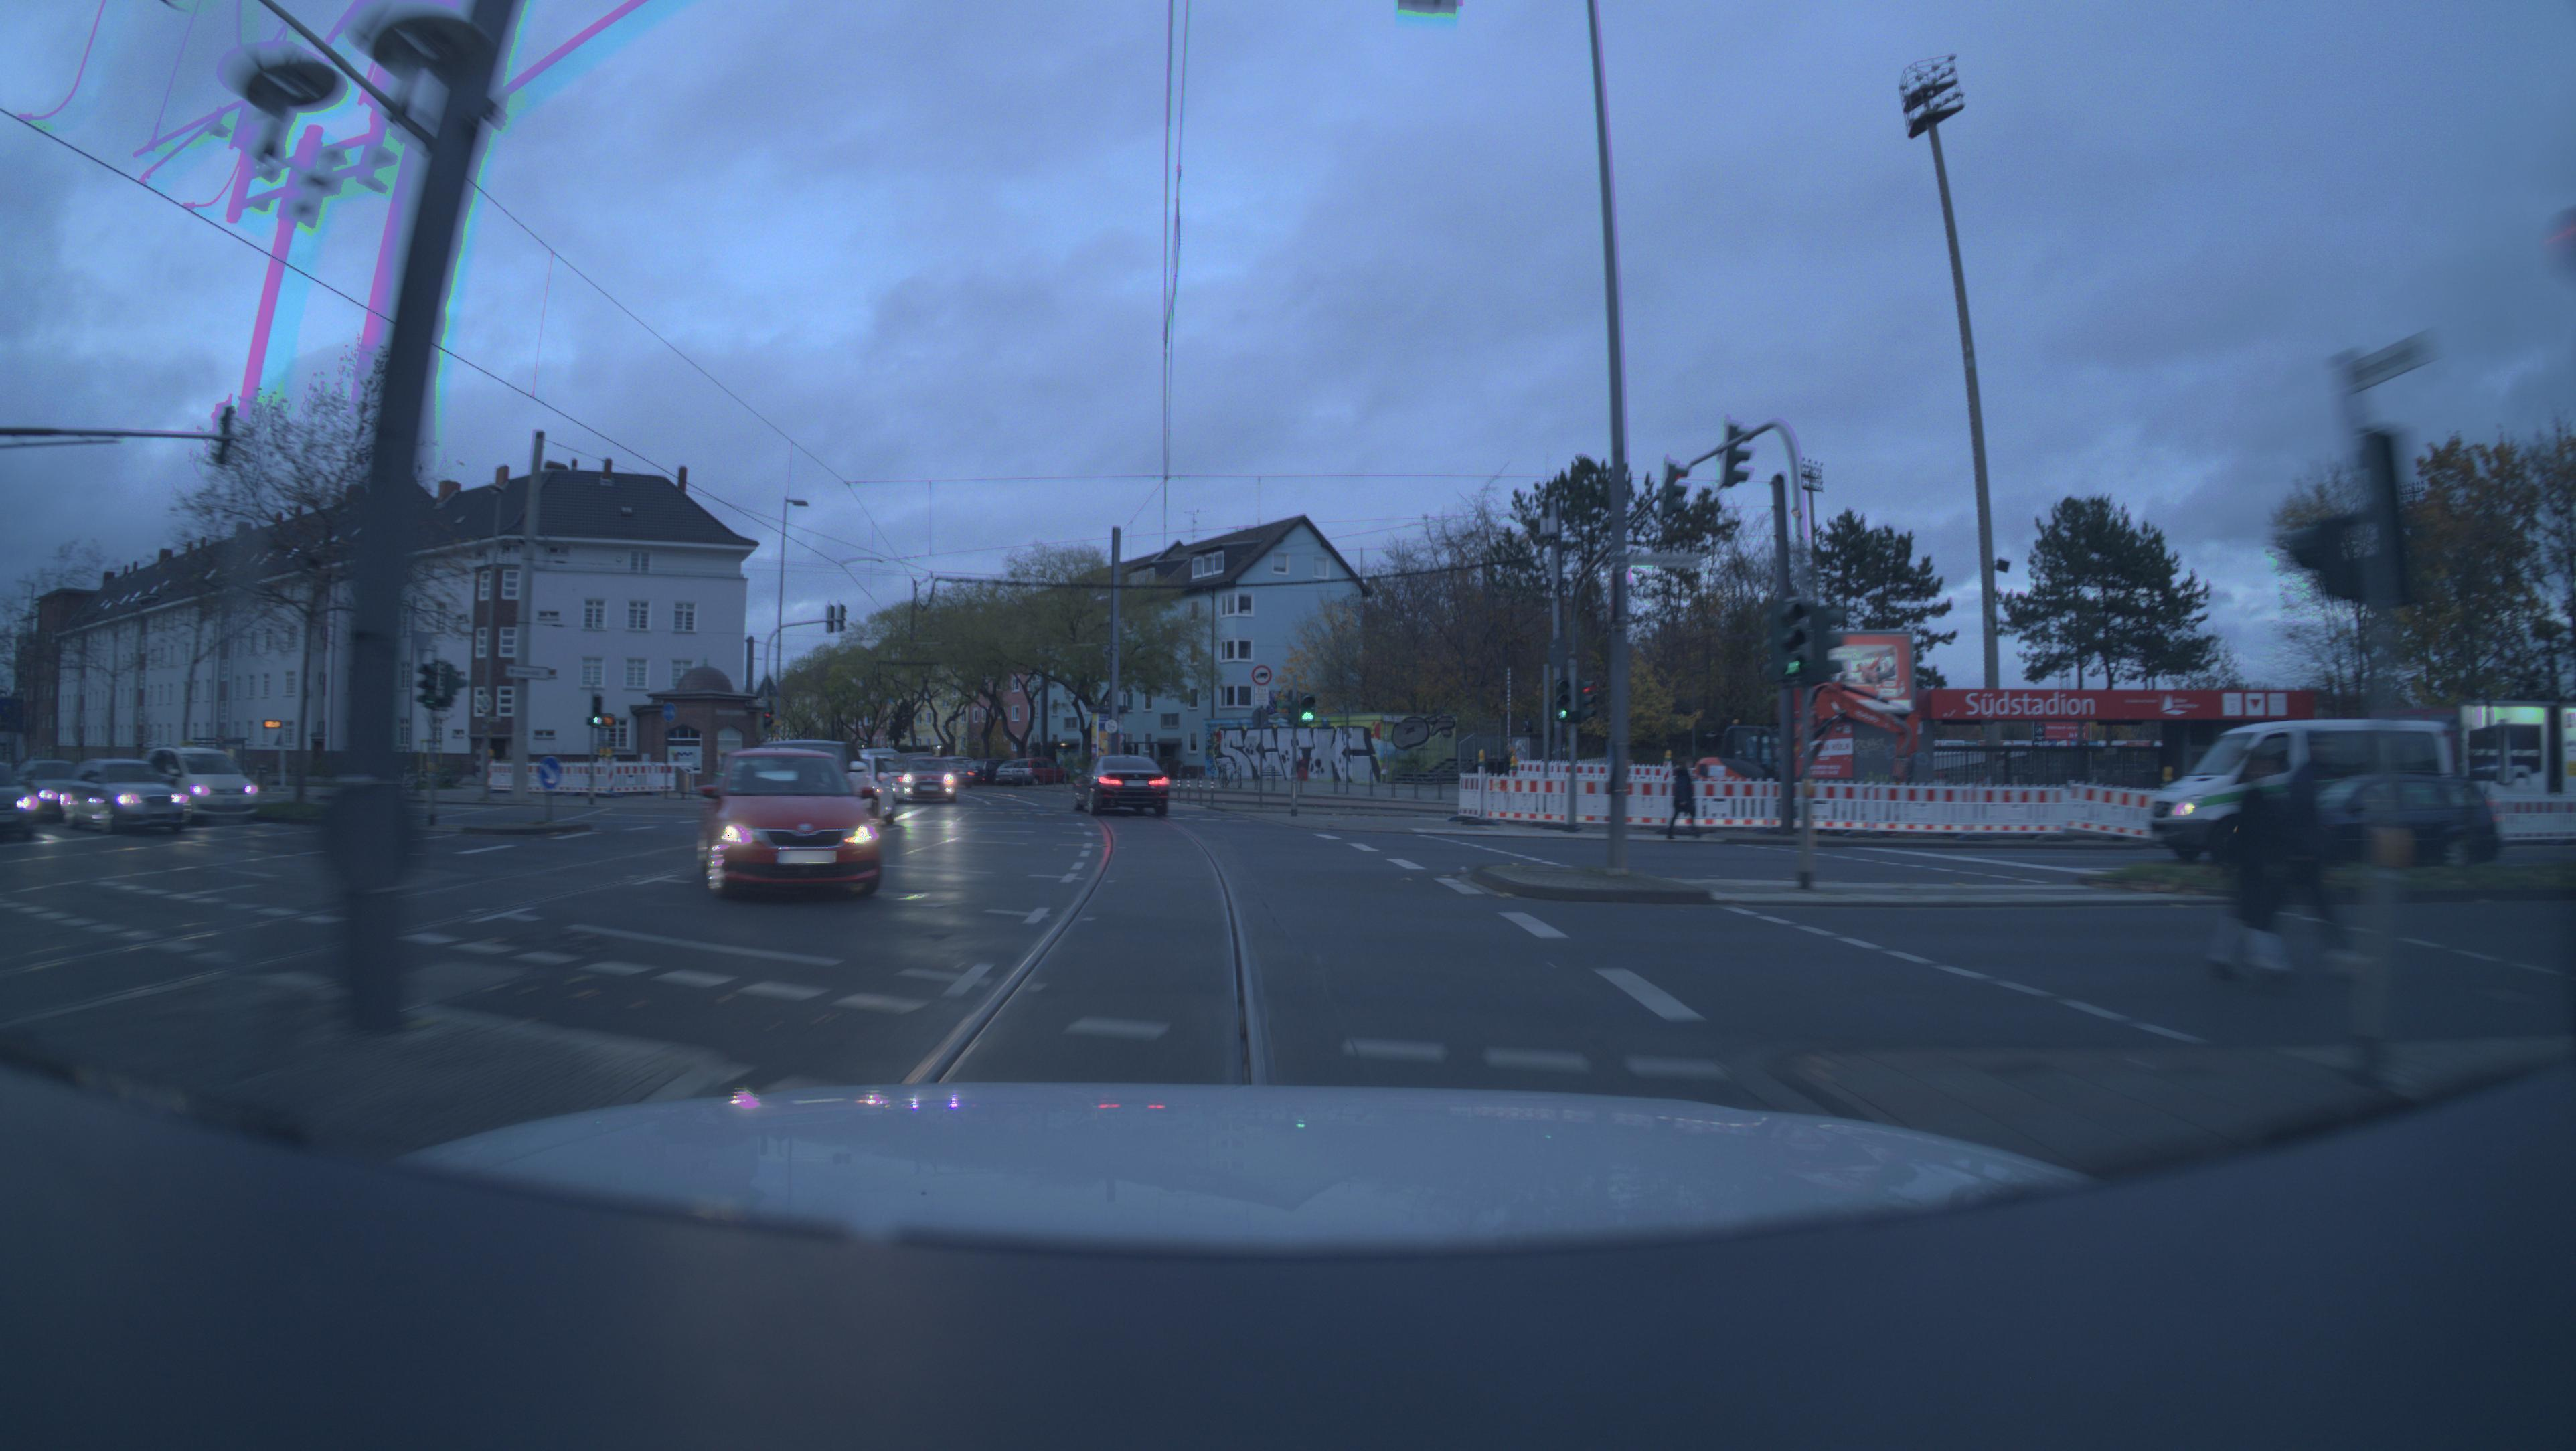green: (593, 695, 603, 727)
